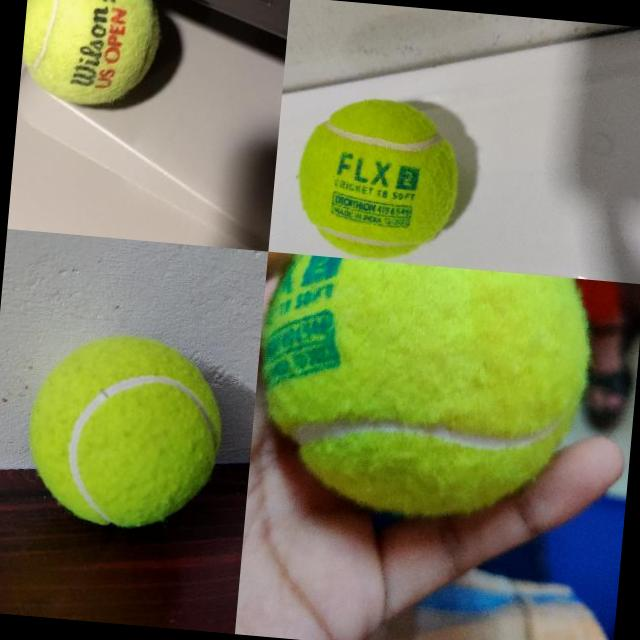tennis-ball: (248, 252, 594, 524), (19, 327, 228, 536), (289, 92, 465, 266), (17, 0, 165, 114)
